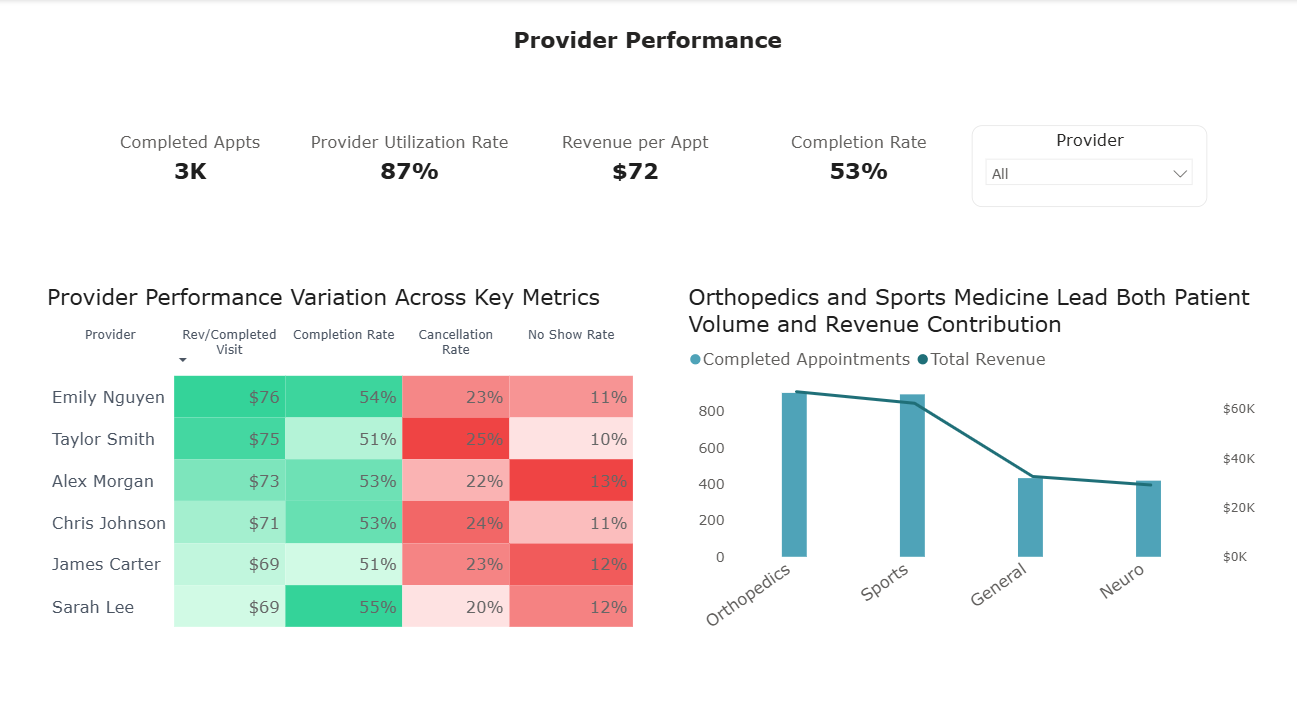

The dashboard page shown, as its layout file describes it:
{"tool":"powerbi","page":{"name":"providers","canvas":[1280,720],"ordinal":2},"visuals":[{"type":"group","id":"g1","title":"Group 1","box":[179,112,922,94.2],"z":0},{"type":"cardVisual","fields":{"Data":["claims.Avg Rev per Completed Visit"]},"box":[632.7,114.4,260.5,89.3],"z":0,"group":"g1"},{"type":"lineStackedColumnComboChart","title":"Orthopedics and Sports Medicine Lead Both Patient Volume and Revenue Contribution","fields":{"Category":["providers.Specialty Clean"],"Y":["appointments.Completed Appointments"],"Y2":["appointments.Total Revenue"]},"box":[670.5,268,577.8,366.7],"z":0,"group":"g2"},{"type":"cardVisual","fields":{"Data":["schedule.Utilization %"]},"box":[377.7,115.6,257.3,88],"z":1000,"group":"g1"},{"type":"group","id":"g2","title":"Group 2","box":[42.7,268,1205.3,366.7],"z":1000},{"type":"pivotTable","title":"Provider Performance Variation Across Key Metrics","fields":{"Values":["appointments.Revenue per Completed Visit","appointments.Completed %","appointments.Cancelled %","appointments.No Show Rate %"],"Rows":["providers.Provider Name Clean"]},"box":[42.7,268,627.8,366.7],"z":1000,"group":"g2"},{"type":"textbox","box":[320,16,640,64],"z":2000},{"type":"cardVisual","fields":{"Data":["appointments.Completed %"]},"box":[866.2,112,234.8,90.5],"z":2000,"group":"g1"},{"type":"cardVisual","fields":{"Data":["appointments.Completed Appointments"]},"box":[179,118.2,198.7,88],"z":3000,"group":"g1"}]}

Visuals, with their boxes in screenshot pixels (x1, y1, x2, y2), scaled from the page's 1280x720 canvas onto the 1297x715 screenshot:
"Group 1" group: (x1=181, y1=111, x2=1116, y2=205)
cardVisual - claims.Avg Rev per Completed Visit: (x1=641, y1=114, x2=905, y2=202)
"Orthopedics and Sports Medicine Lead Both Patient Volume and Revenue Contribution" lineStackedColumnComboChart: (x1=679, y1=266, x2=1265, y2=630)
cardVisual - schedule.Utilization %: (x1=383, y1=115, x2=643, y2=202)
"Group 2" group: (x1=43, y1=266, x2=1265, y2=630)
"Provider Performance Variation Across Key Metrics" pivotTable: (x1=43, y1=266, x2=679, y2=630)
textbox: (x1=324, y1=16, x2=973, y2=79)
cardVisual - appointments.Completed %: (x1=878, y1=111, x2=1116, y2=201)
cardVisual - appointments.Completed Appointments: (x1=181, y1=117, x2=383, y2=205)
